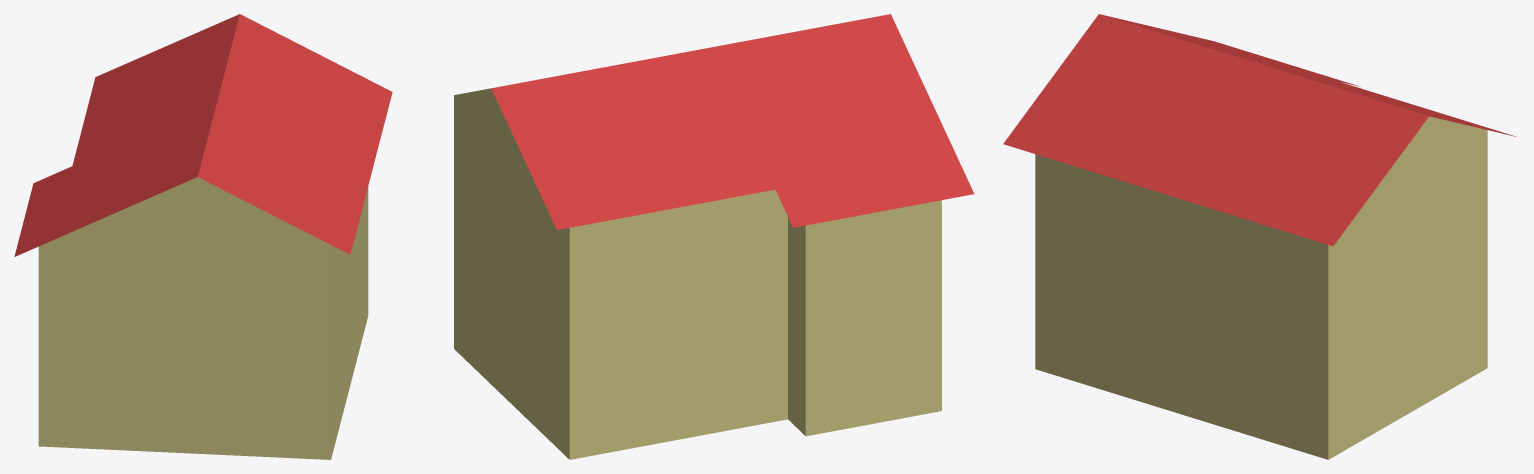
3 renders of one model, left to right at view 1: azimuth 30°, elevation 25°; view 2: azimuth 150°, elevation 25°; view 3: azimuth 270°, elevation 25°, orthographic. The views are drawn at different scales.
Visible parts, largest first — view 1: group_5, group_3, group_4; view 2: group_5, group_3, group_4; view 3: group_5, group_3, group_4.
Part boxes in pixels (box(x1,y1,x2,y2)): group_5: box(38, 177, 368, 459); group_3: box(38, 14, 368, 237); group_4: box(14, 14, 392, 256); group_5: box(454, 88, 941, 459); group_3: box(491, 14, 941, 229); group_4: box(671, 14, 974, 227); group_5: box(1035, 116, 1487, 459); group_3: box(1035, 14, 1516, 242); group_4: box(1003, 14, 1428, 246).
Bounding box in the file's own units: 17.18 × 16.75 × 10.8.
